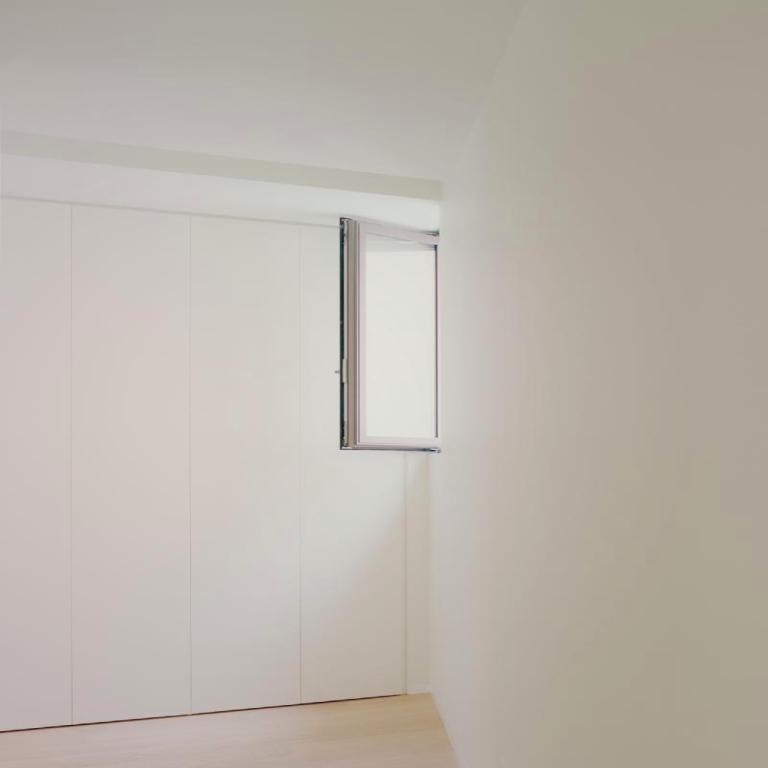white-walls: (47, 14, 725, 702)
